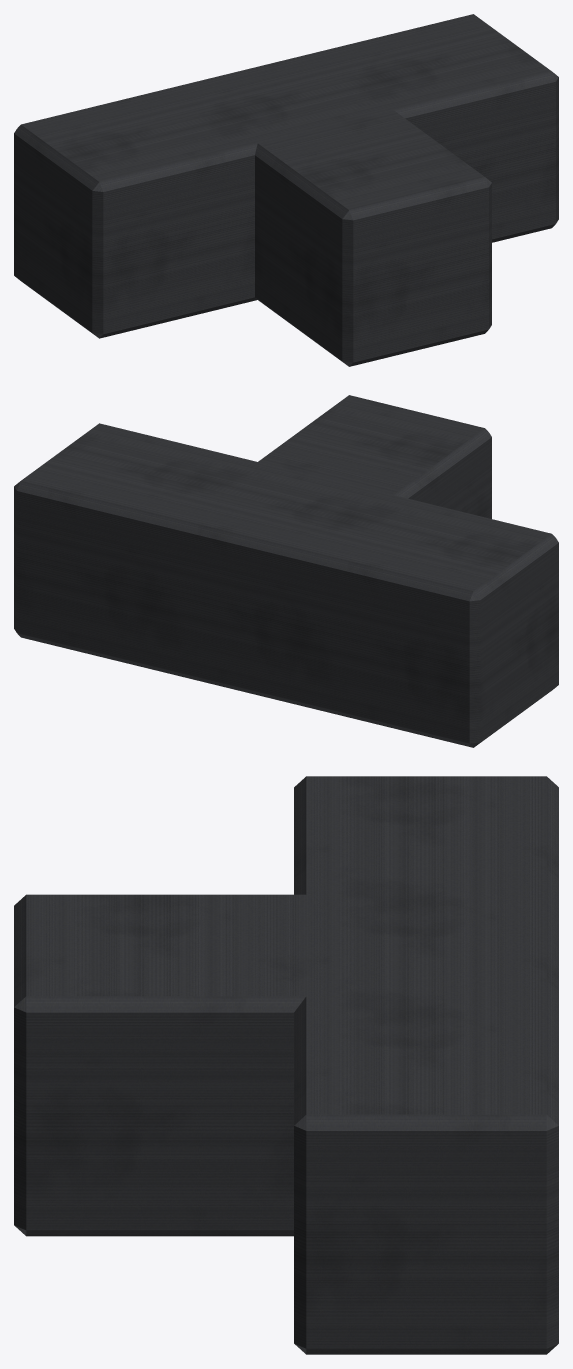
Rendered from R4B_Tee4_LOD1.glb.
3 views of the same model, one above another, from view 1: azimuth 30°, elevation 25°; view 2: azimuth 150°, elevation 25°; view 3: azimuth 270°, elevation 25° (orthographic). The views are drawn at different scales.
Parts seen in each view (by area): view 1: R4B_Tee4_LOD1; view 2: R4B_Tee4_LOD1; view 3: R4B_Tee4_LOD1.
Part boxes in pixels (x1=…): R4B_Tee4_LOD1: x1=14, y1=14, x2=558, y2=366; R4B_Tee4_LOD1: x1=14, y1=395, x2=558, y2=747; R4B_Tee4_LOD1: x1=14, y1=776, x2=558, y2=1354.
Size of the model in its own units: 1.62 by 0.52 by 1.07.
Materials: 1 (1 with a texture image).
